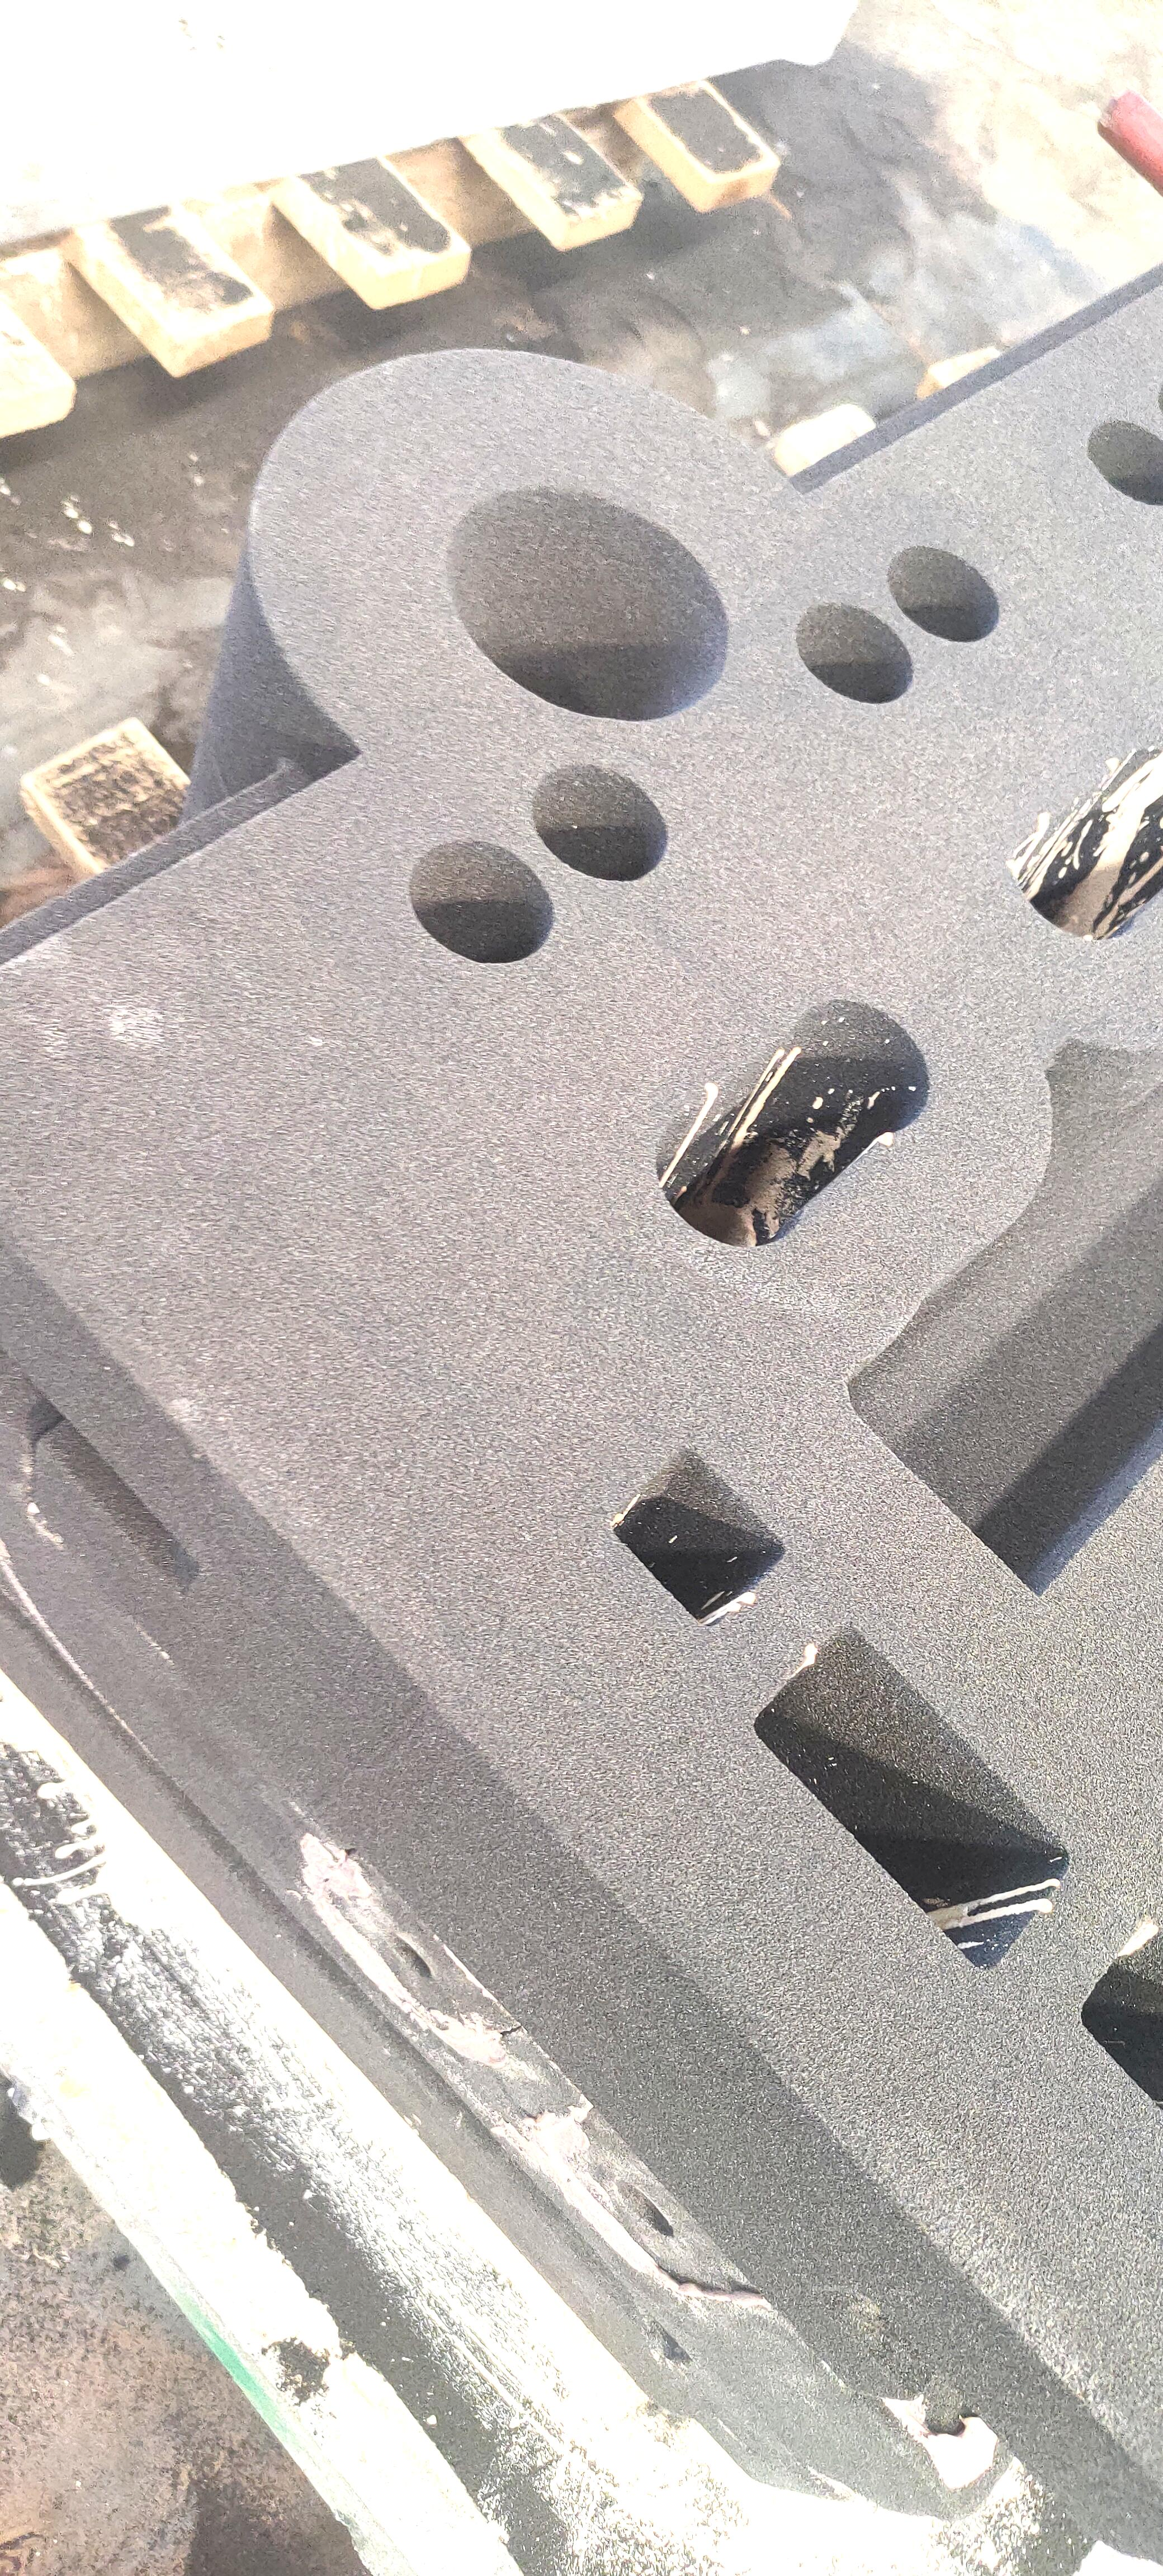pouring hole: (445, 490, 729, 724)
